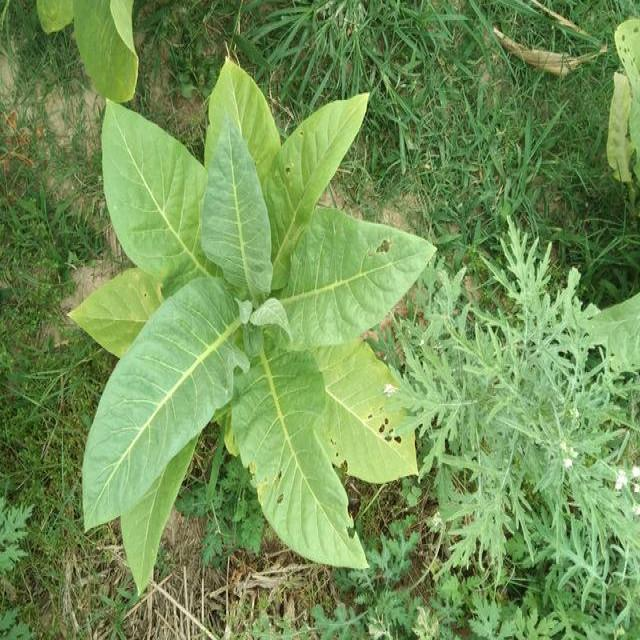crop: (73, 54, 420, 564)
